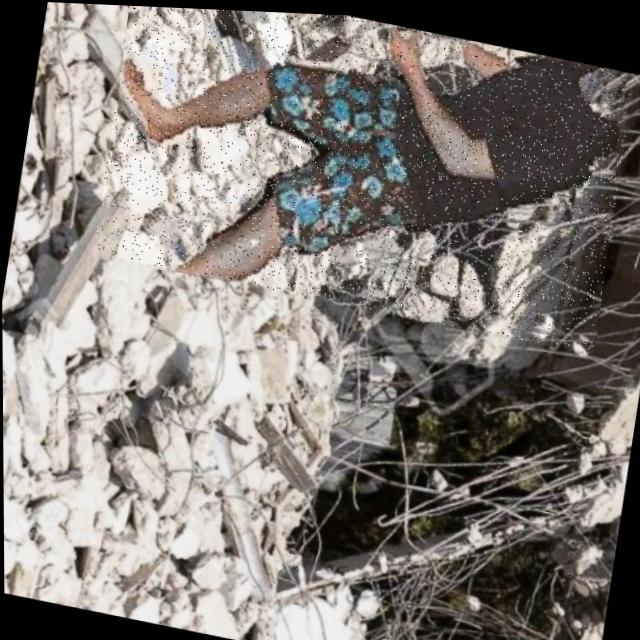Person in Rubble: (90, 3, 636, 350)
